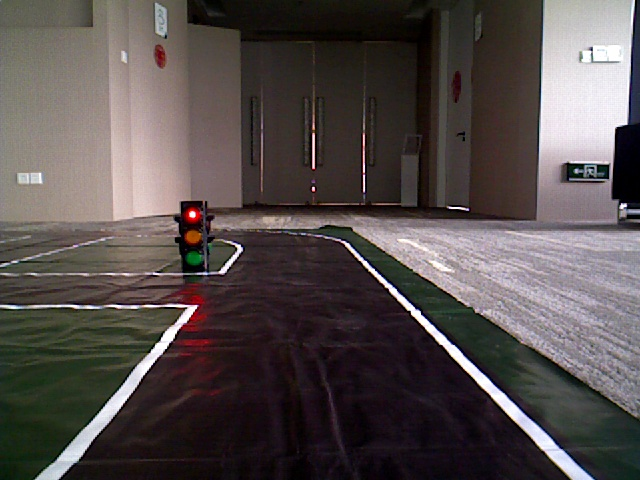red: (178, 202, 204, 268)
